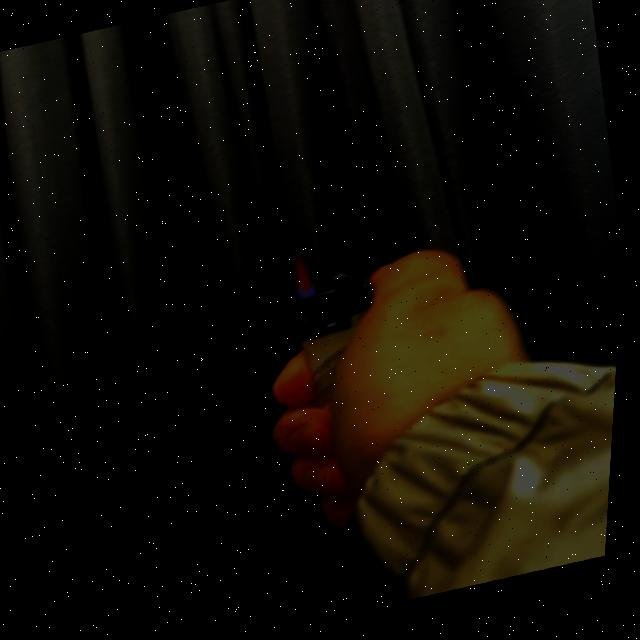Fire: (287, 243, 323, 302)
